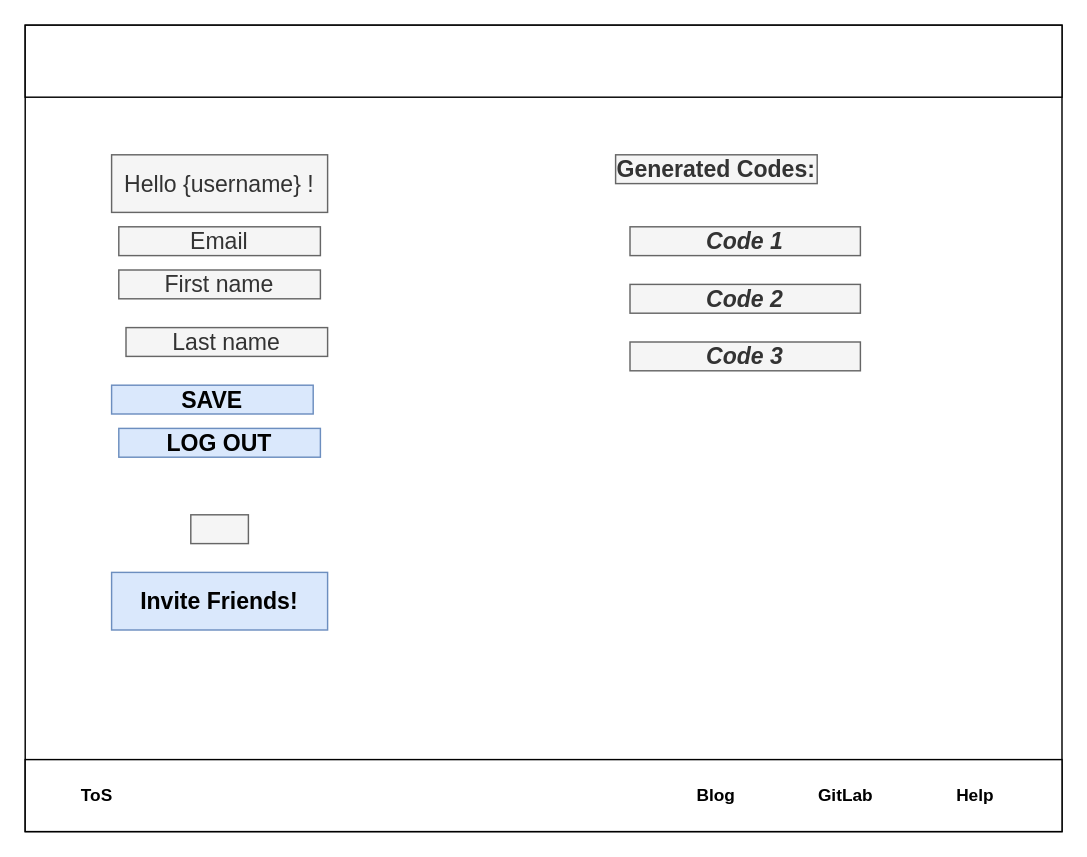
Image size: 1087x857. Some labels were removed from this diagram. Each missing label, with the centre of its shape:
"bookly" goes at point 543,60.
"Code" goes at point 218,528.
